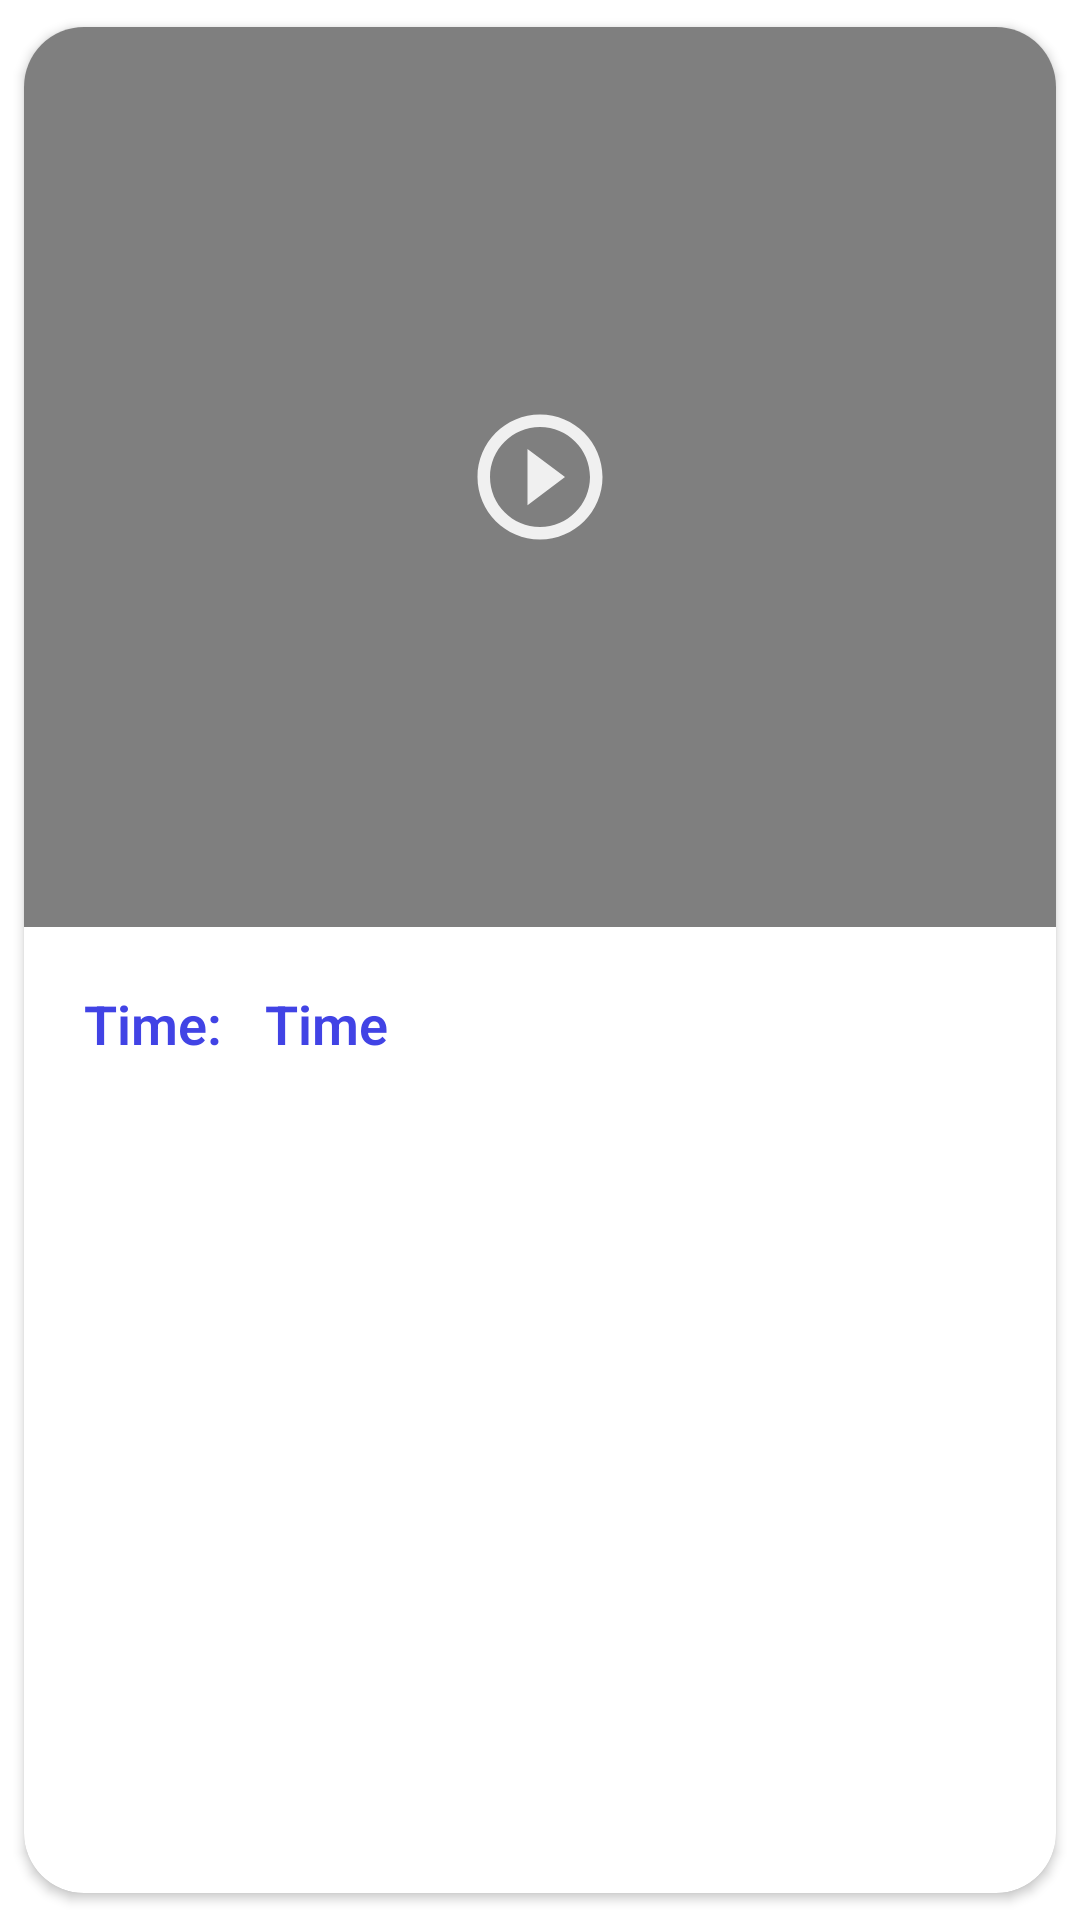

Screen size 1080×1920. Icon name, then its center in pixels as (x,y):
play circle: (540,477)
